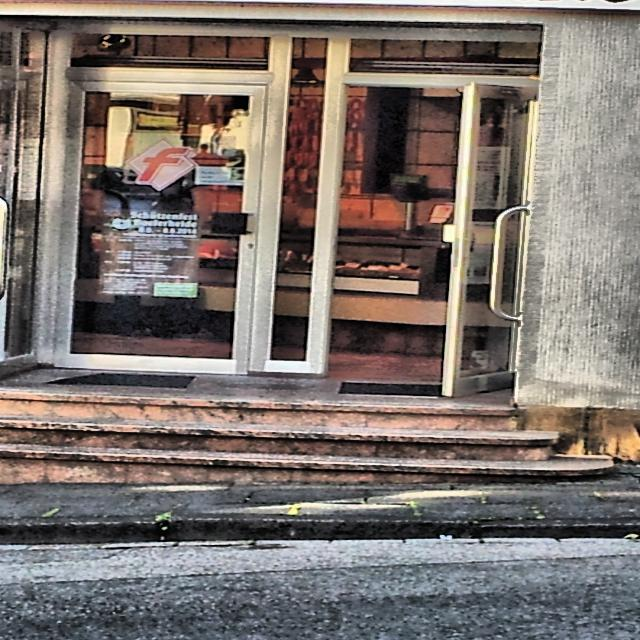escada: (0, 391, 616, 483)
